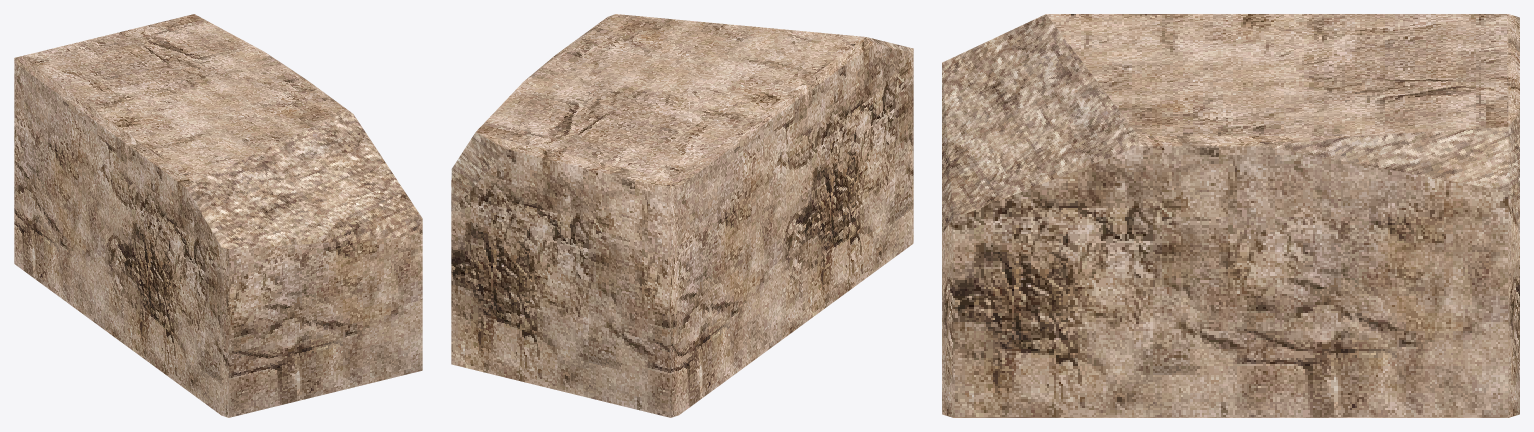
Rendered from stage-dese-p7-14.glb.
The picture shows the model from 3 angles, left to right: view 1: azimuth 30°, elevation 25°; view 2: azimuth 150°, elevation 25°; view 3: azimuth 270°, elevation 25°; orthographic projection. The views are drawn at different scales.
Size of the model in its own units: 1.21 by 1.21 by 2.24.
Materials: 2 (2 with a texture image).
